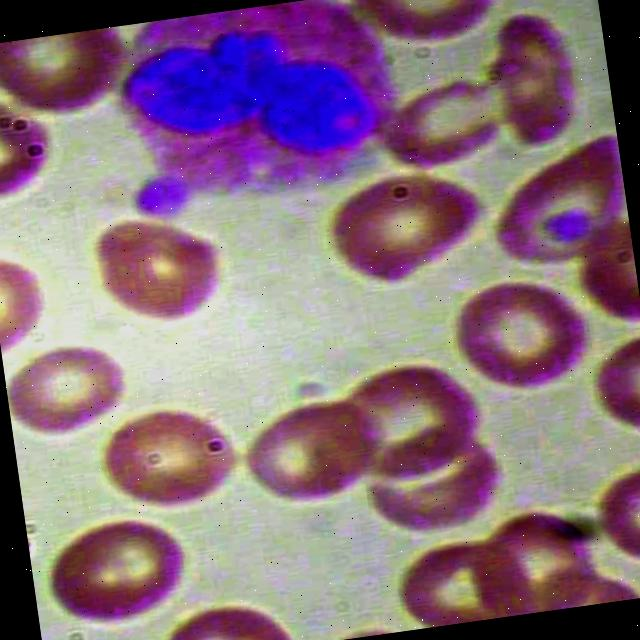Platelets: (126, 172, 194, 226)
RBC: (76, 192, 242, 353), (313, 156, 498, 300), (440, 264, 604, 405), (324, 354, 491, 492), (479, 128, 633, 272), (42, 504, 202, 632), (230, 388, 390, 516), (92, 391, 252, 518), (1, 329, 153, 443), (490, 2, 600, 150), (388, 525, 535, 632), (478, 502, 604, 619), (565, 331, 640, 439), (584, 461, 640, 569)
WBC: (103, 0, 407, 212)
